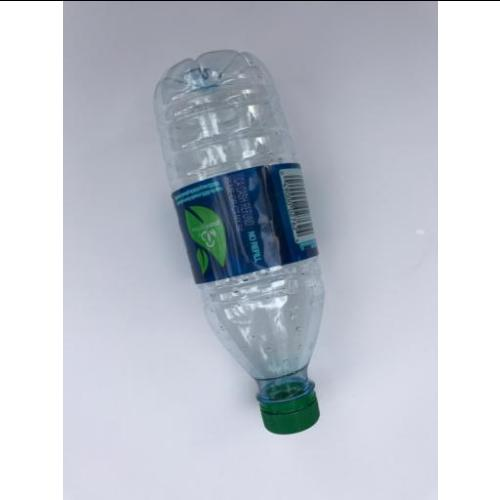plastic: (152, 47, 328, 436)
